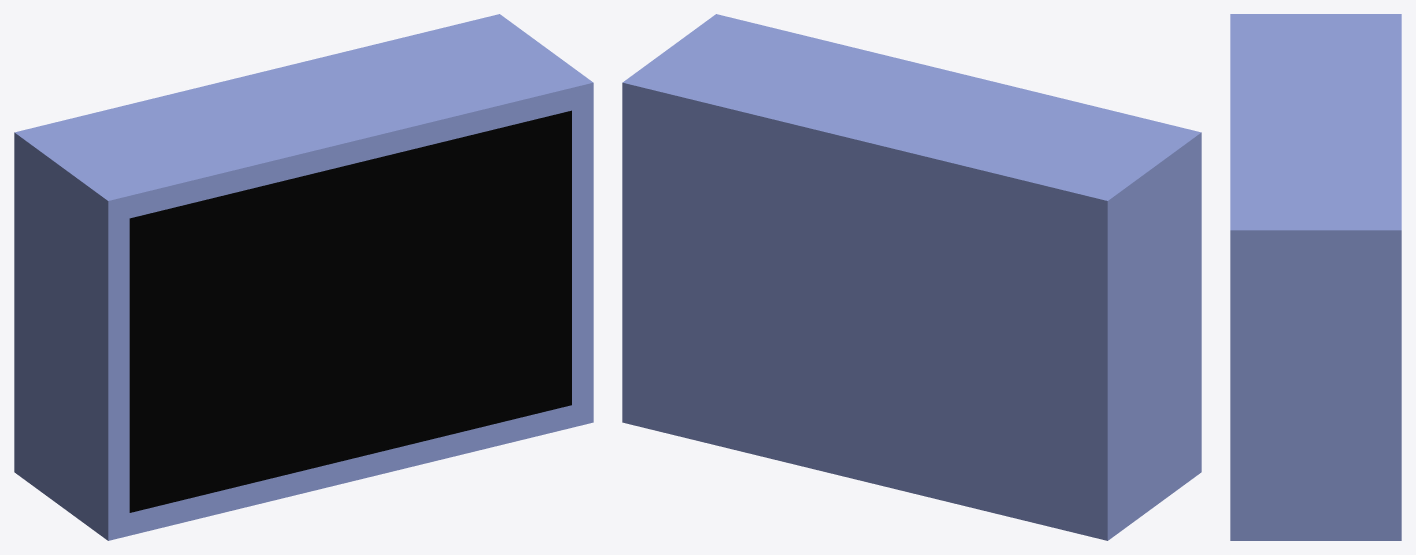
File: rfs_lcd_small_lod2.fbx
3 renders of one model, left to right at view 1: azimuth 30°, elevation 25°; view 2: azimuth 150°, elevation 25°; view 3: azimuth 270°, elevation 25°, orthographic. The views are drawn at different scales.
Parts seen in each view (by area): view 1: obj_interactive_textsign_small_lod2; view 2: obj_interactive_textsign_small_lod2; view 3: obj_interactive_textsign_small_lod2.
Part boxes in pixels (x1,y1,x2,y2): obj_interactive_textsign_small_lod2: (14,14,593,540); obj_interactive_textsign_small_lod2: (622,14,1201,540); obj_interactive_textsign_small_lod2: (1230,14,1401,540).
Size of the model in its own units: 2.99 by 2 by 1.
